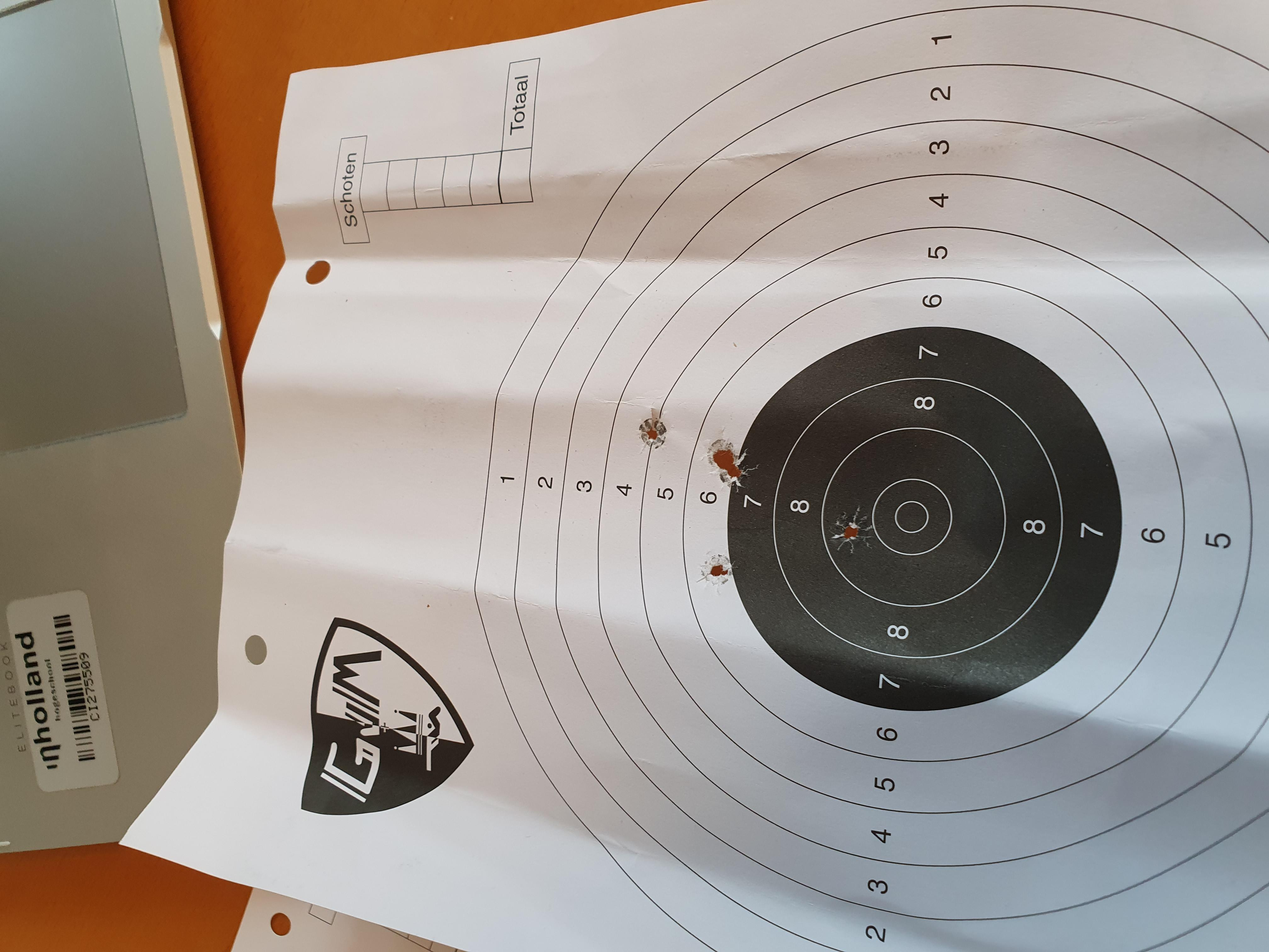hole: (530, 623, 594, 654), (486, 521, 538, 549), (640, 525, 686, 556), (668, 476, 725, 500), (612, 539, 657, 567)
